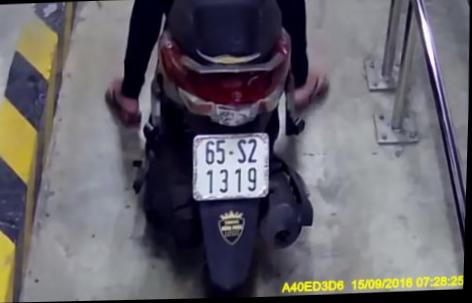LP: (191, 131, 272, 203)
